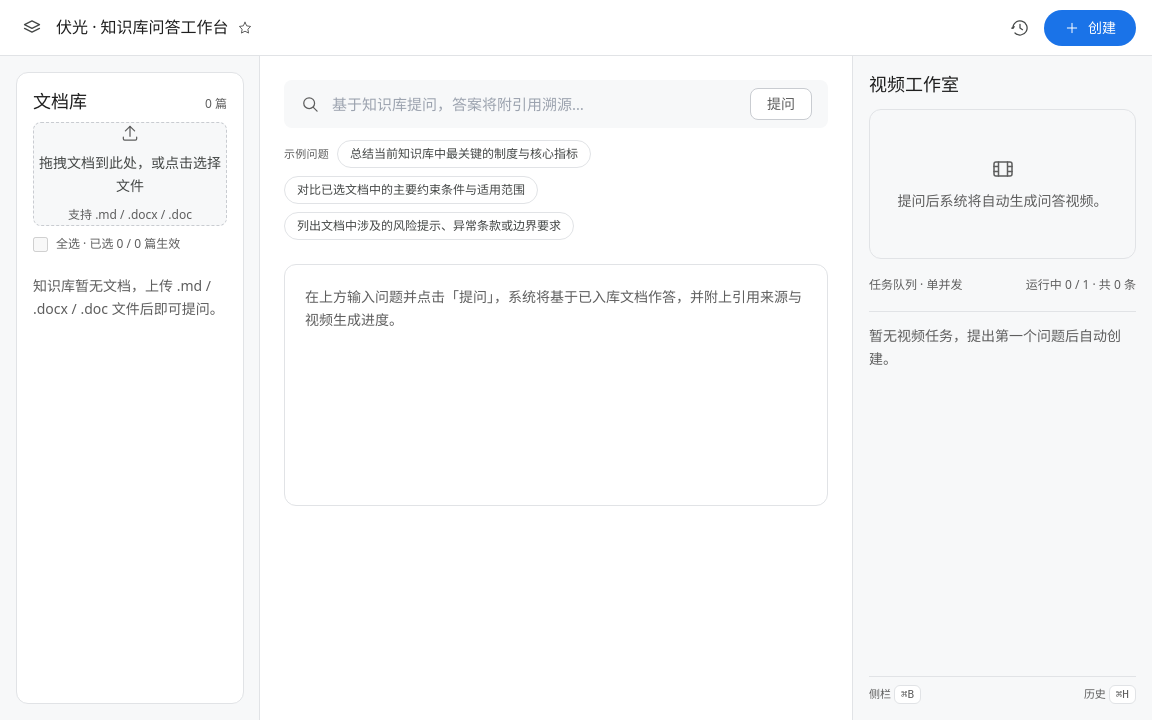
Test case: App 三栏工作台 › 输入问题并提交后展示问题与流式回答
The image size is (1152, 720).
Type "研发投入占比？" into the field labelled "提问" at (535,104), box [332,92,738,116]
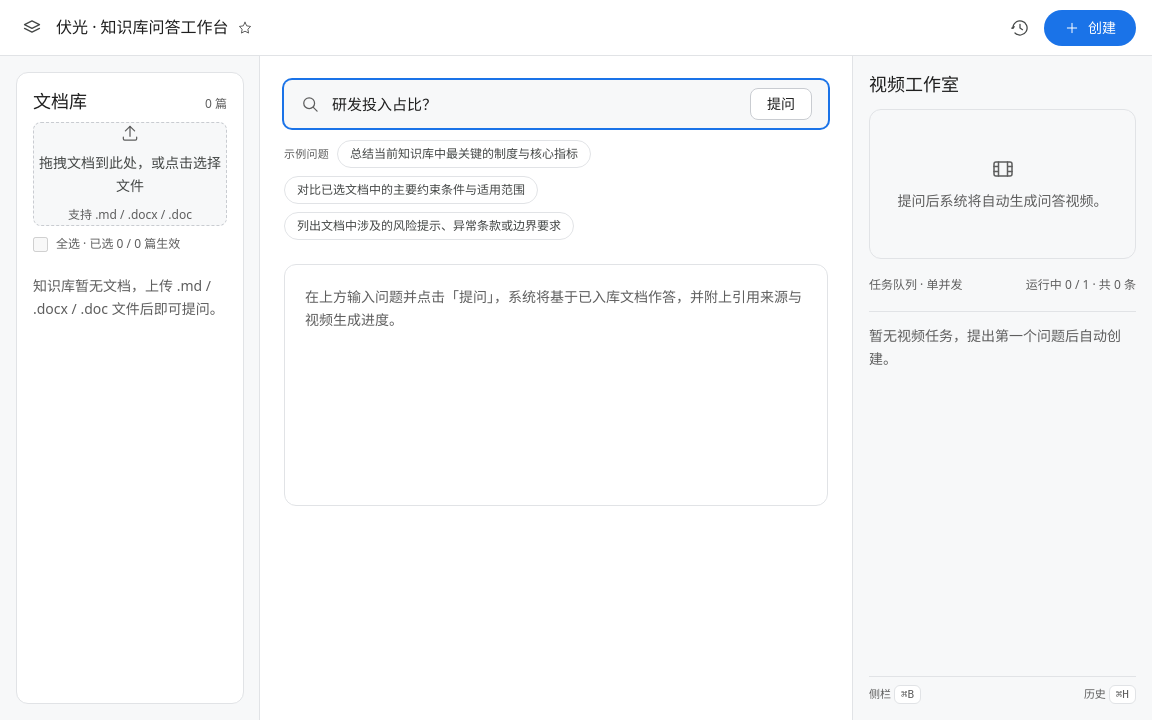
Click the button "提问" at (781,104), box [750,88,812,120]
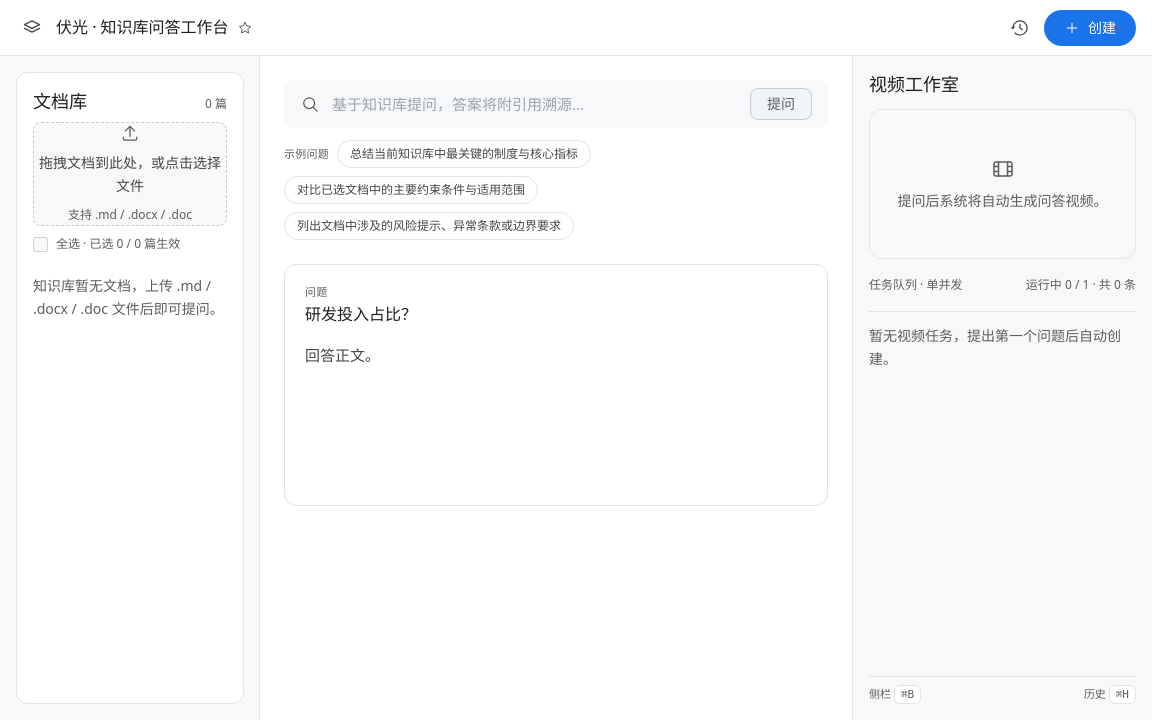
Expected: the text "研发投入占比？" is shown, [305,303,417,325]
Expected: the text "回答正文。" is shown, [305,346,380,366]
